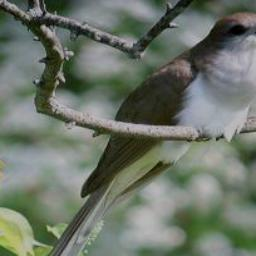Cuckoo: (19, 10, 256, 256)
